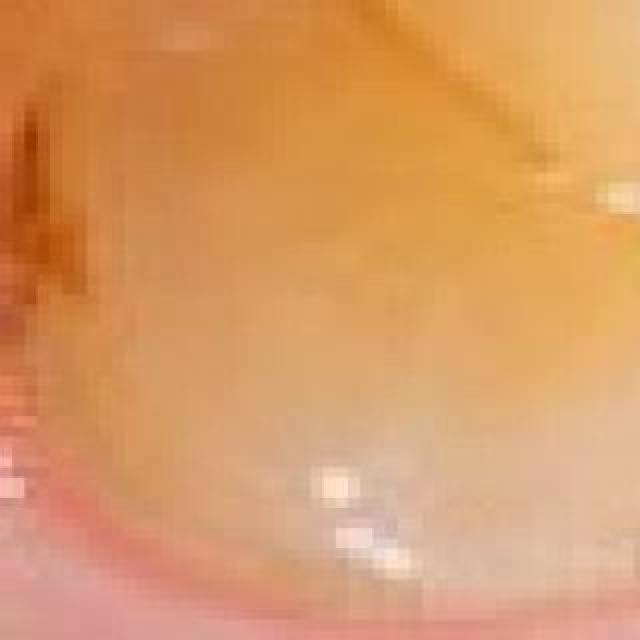plaque: (562, 0, 640, 56)
